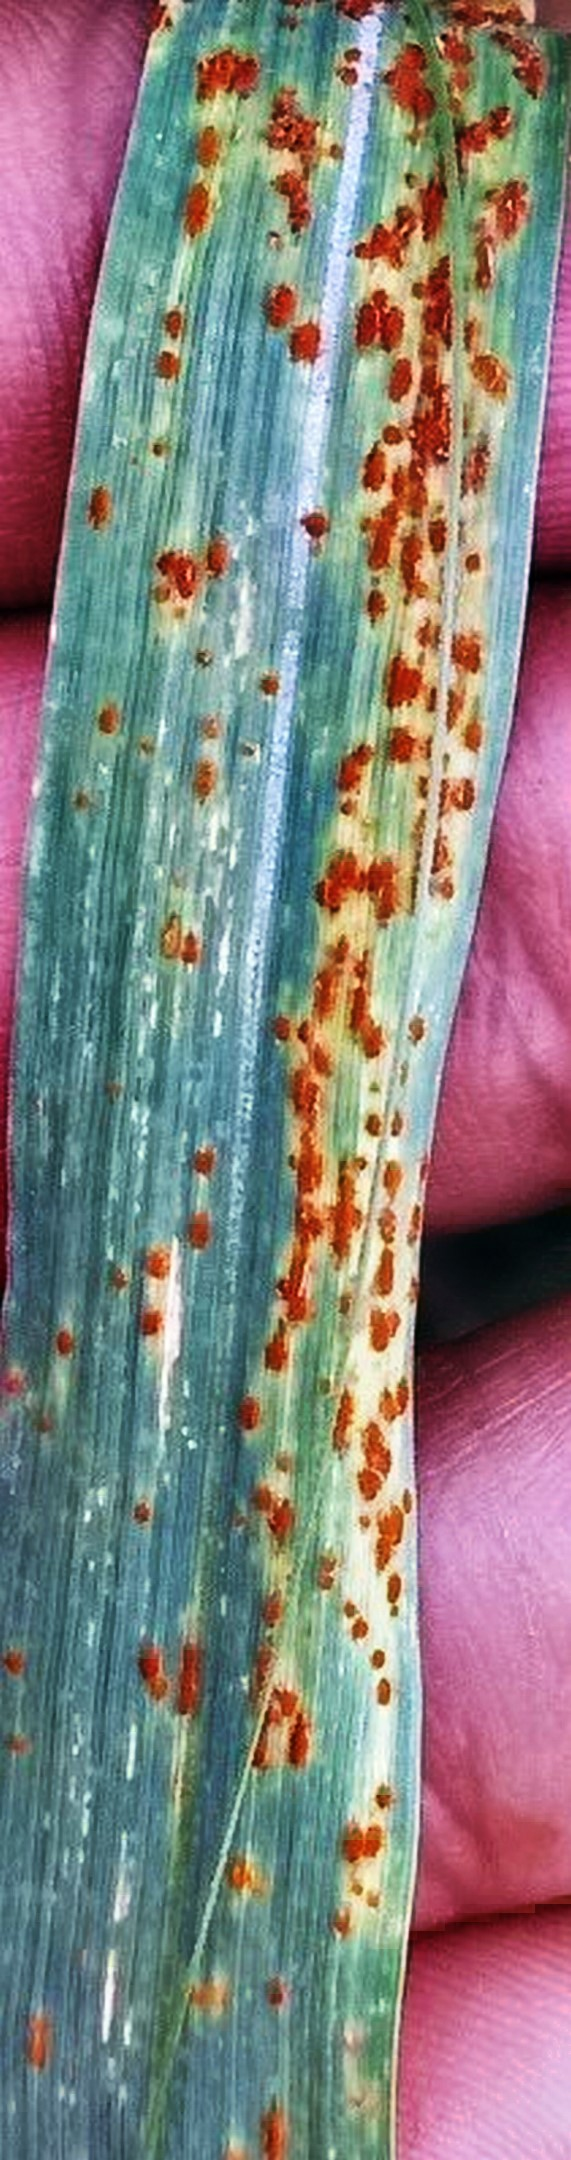Leaf Rust: (1, 32, 537, 1922)
